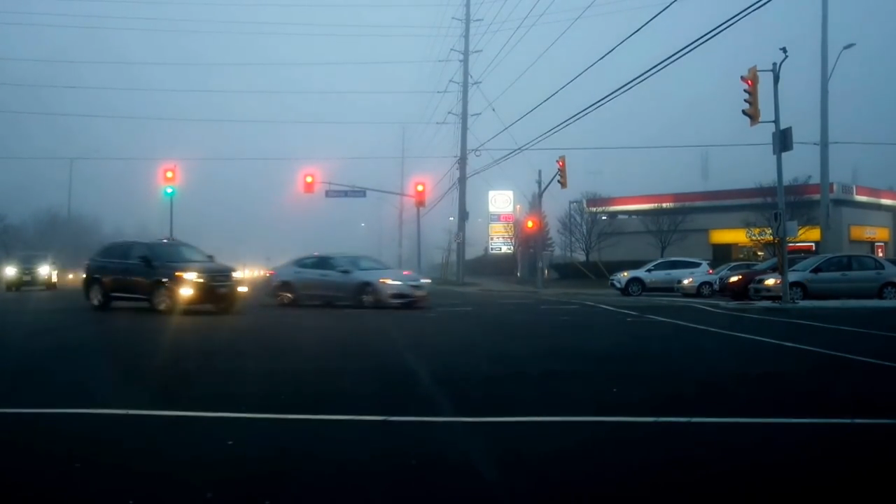car: (82, 235, 239, 315), (263, 252, 432, 311), (746, 251, 895, 304), (717, 254, 855, 302), (606, 255, 715, 299), (673, 259, 791, 298), (2, 249, 59, 290)
